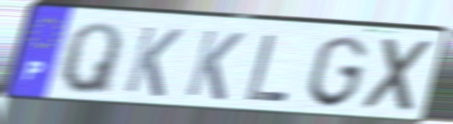G: (303, 34, 371, 111)
K: (120, 23, 186, 100), (182, 27, 247, 104)
L: (242, 32, 292, 105)
Q: (56, 20, 125, 98)
X: (360, 34, 439, 116)
